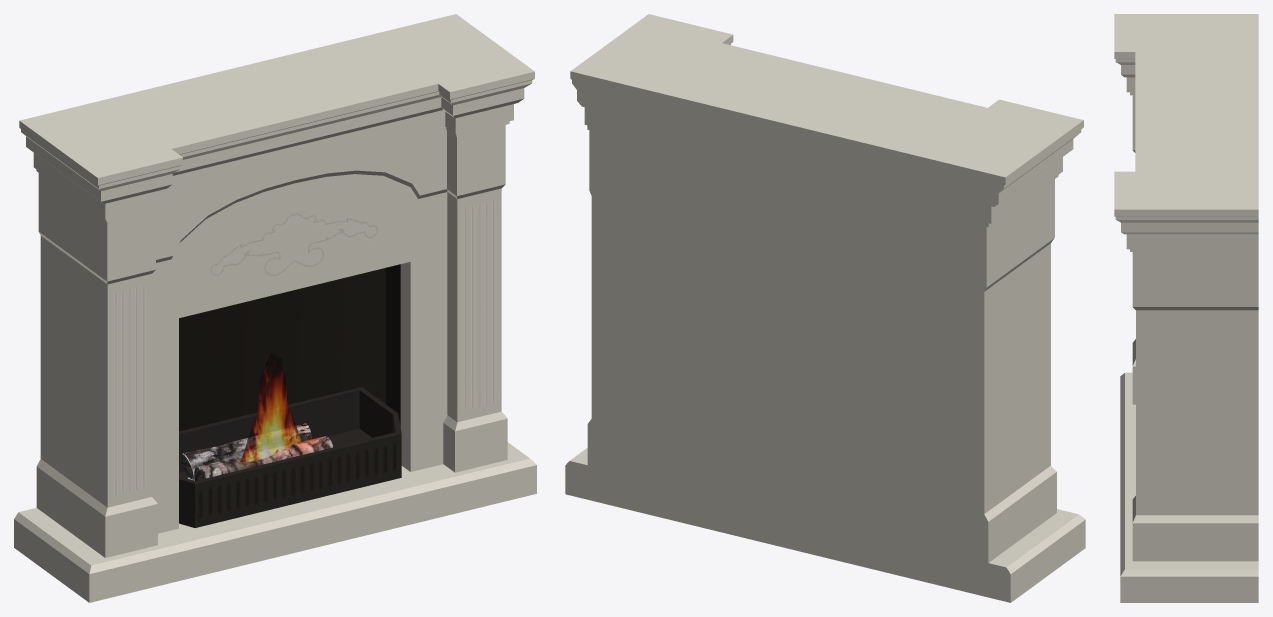
Rendered from sweethome3d-scopia-fireplace.glb.
3 views of the same model, side by side, from view 1: azimuth 30°, elevation 25°; view 2: azimuth 150°, elevation 25°; view 3: azimuth 270°, elevation 25° (orthographic). The views are drawn at different scales.
Visible parts, largest first — view 1: Cube, Cube.001_Cube.002; view 2: Cube; view 3: Cube.
Part boxes in pixels (x1,y1,x2,y2): Cube: (14,14,536,602); Cube.001_Cube.002: (180,353,332,480); Cube: (565,14,1085,602); Cube: (1114,14,1258,602).
Bounding box in the file's own units: 115 × 105 × 35.14.
Materials: 7 (7 with a texture image).
